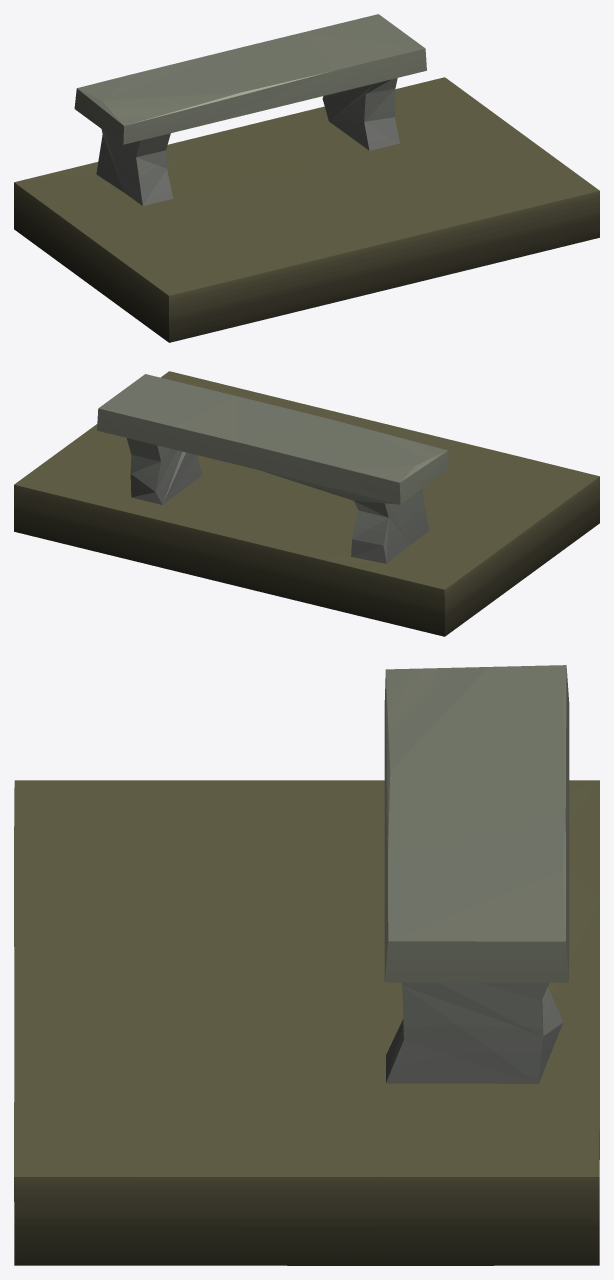
The model's file is EA_Grave_Bank_01a.fbx.
3 views of the same model, one above another, from view 1: azimuth 30°, elevation 25°; view 2: azimuth 150°, elevation 25°; view 3: azimuth 270°, elevation 25° (orthographic). The views are drawn at different scales.
Parts seen in each view (by area): view 1: EA_Grave_Bank_01a_LOD0; view 2: EA_Grave_Bank_01a_LOD0; view 3: EA_Grave_Bank_01a_LOD0.
Boxes of the visible parts, bbox=[...] form: EA_Grave_Bank_01a_LOD0: bbox=[14, 14, 599, 342]; EA_Grave_Bank_01a_LOD0: bbox=[14, 371, 599, 636]; EA_Grave_Bank_01a_LOD0: bbox=[14, 665, 599, 1265].
Size of what is drawn, in the model's own units: 3.63 by 1.09 by 2.27.
